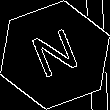N_S: (26, 24, 84, 86)
